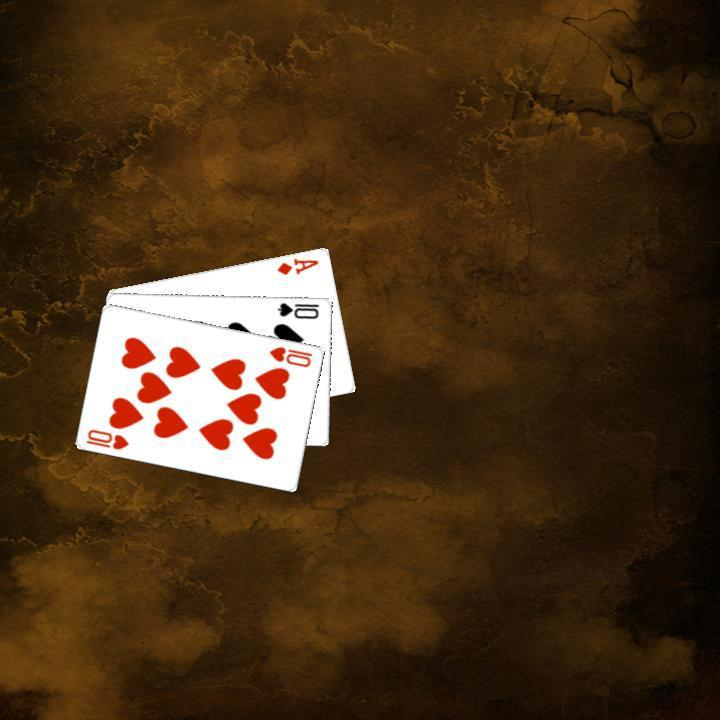10: (265, 342, 314, 369), (82, 425, 131, 452), (273, 298, 321, 320)
A: (273, 253, 320, 276)
